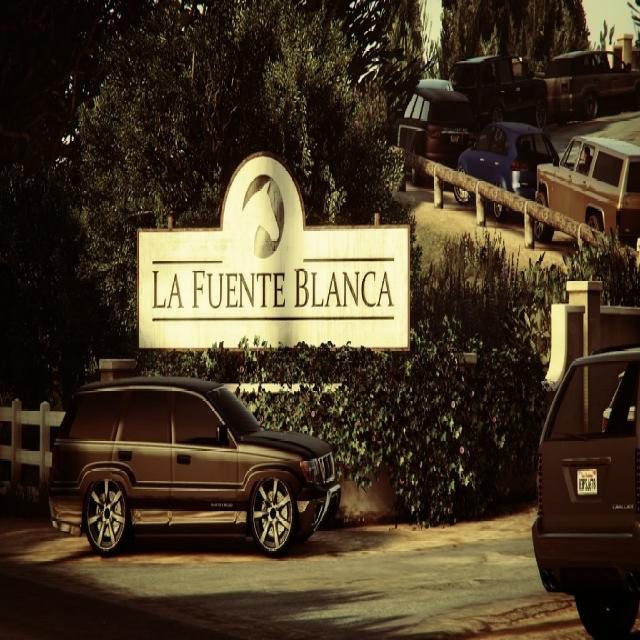car: (46, 374, 336, 553)
